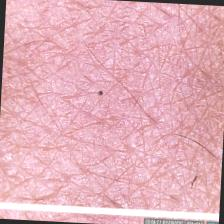Normal: (0, 0, 224, 209)
